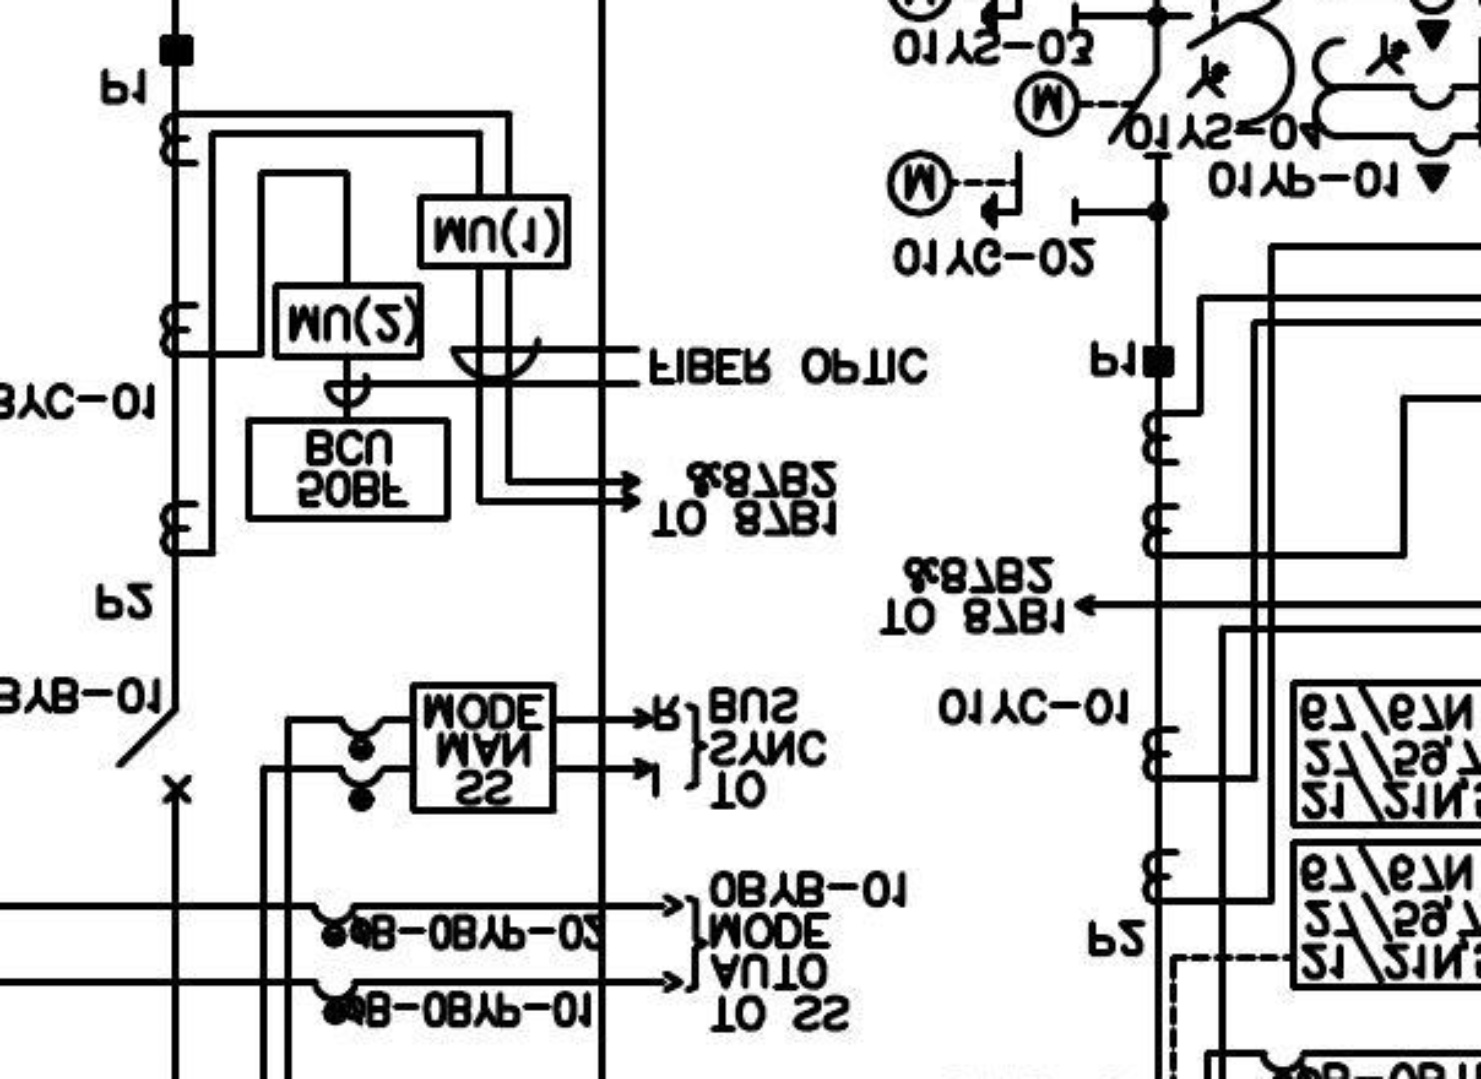115_1way_ds_w_motor: (1011, 69, 1174, 161)
115_breaker: (113, 707, 192, 805)
115_gs_w_motor: (884, 148, 1080, 232)
MU: (271, 280, 426, 362), (416, 192, 571, 271)
ss_man_mode: (408, 680, 558, 815)
